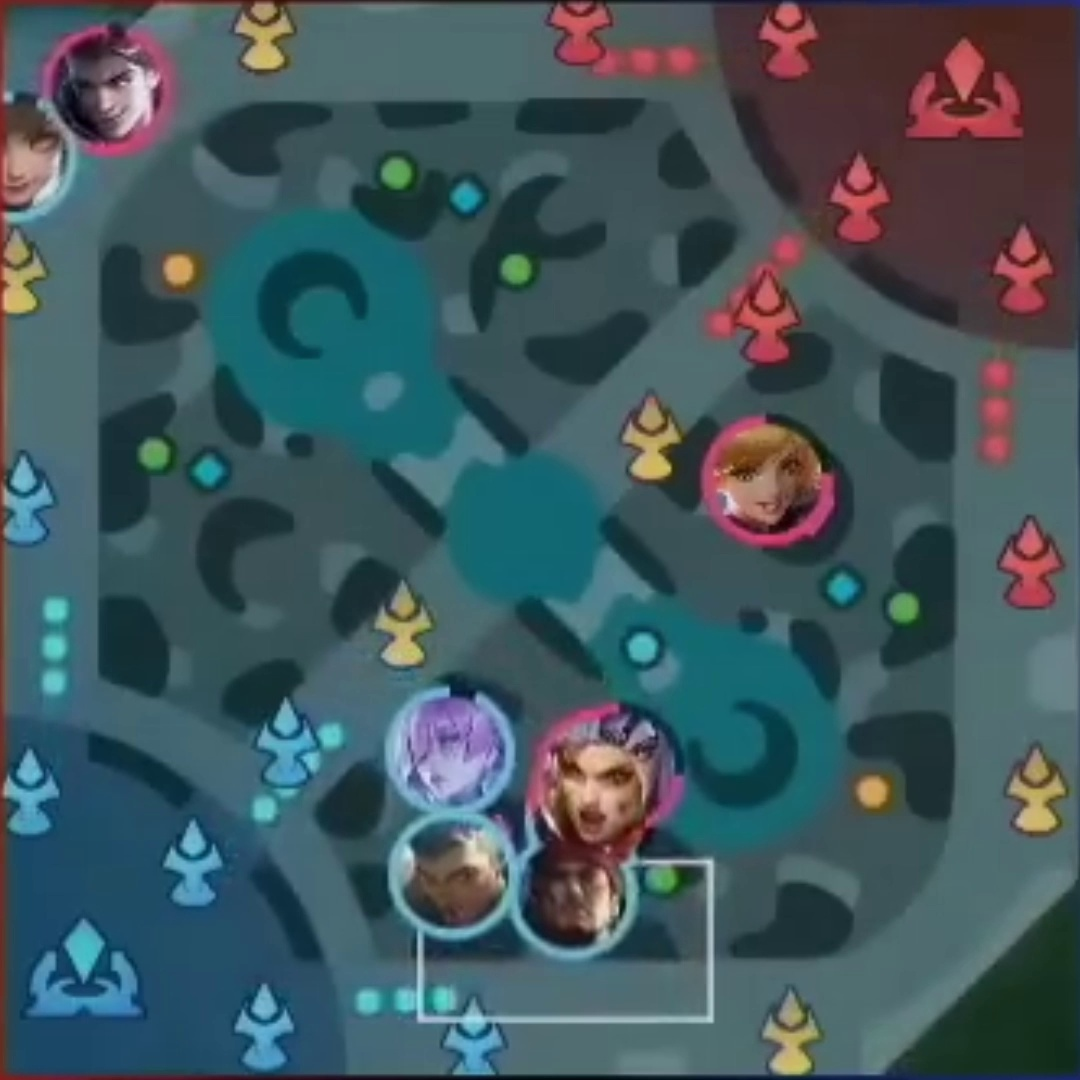Claude: (59, 37, 163, 139)
Fanny: (706, 423, 820, 536)
Fredrinn: (408, 820, 507, 927)
Lapu-Lapu: (525, 856, 621, 947)
Masha: (549, 749, 643, 846)
Novaria: (394, 685, 508, 802)
Wanwan: (1, 95, 63, 208)
